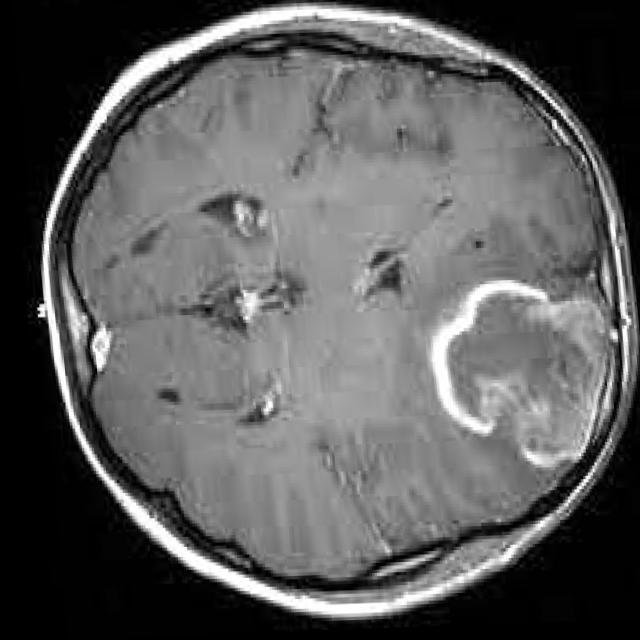Tumor: (427, 283, 603, 464)
